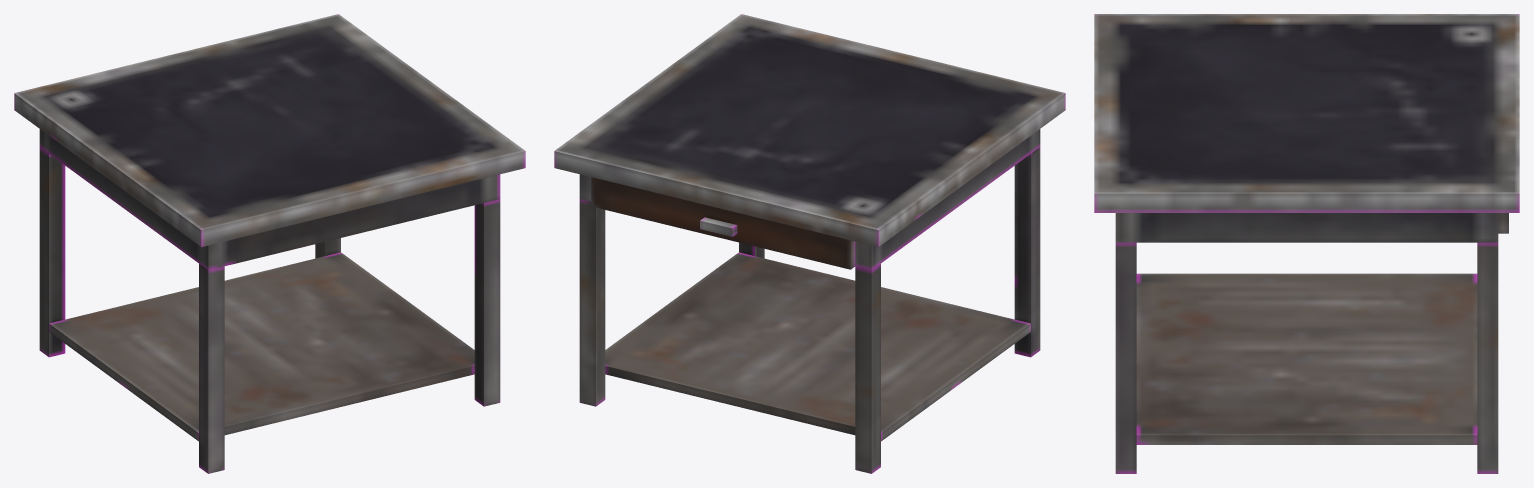
Rendered from table.fbx.
The picture shows the model from 3 angles, left to right: view 1: azimuth 30°, elevation 25°; view 2: azimuth 150°, elevation 25°; view 3: azimuth 270°, elevation 25°; orthographic projection. The views are drawn at different scales.
Parts seen in each view (by area): view 1: table; view 2: table; view 3: table.
Part boxes in pixels (bbox=[...]): table: bbox=[14, 14, 525, 473]; table: bbox=[554, 14, 1065, 473]; table: bbox=[1094, 14, 1519, 473].
Bounding box in the file's own units: 200 × 150 × 200.
